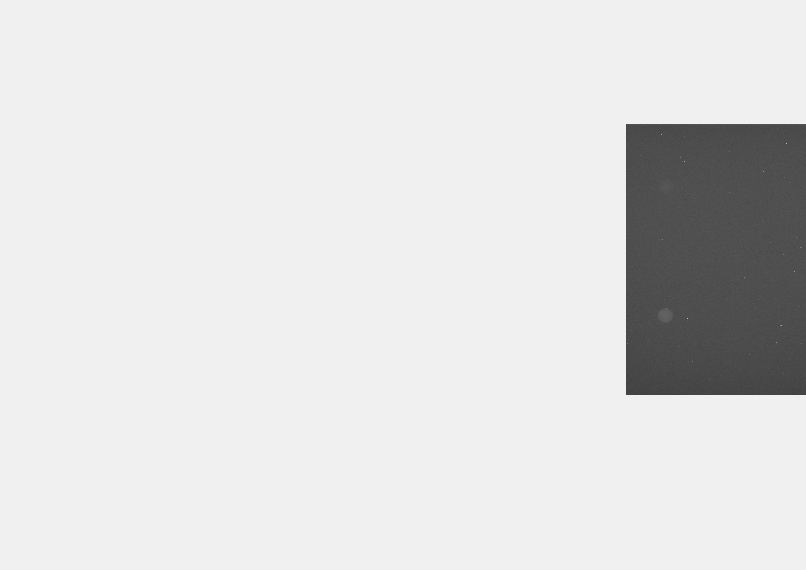bubble: (657, 178, 674, 194), (656, 307, 672, 322)
